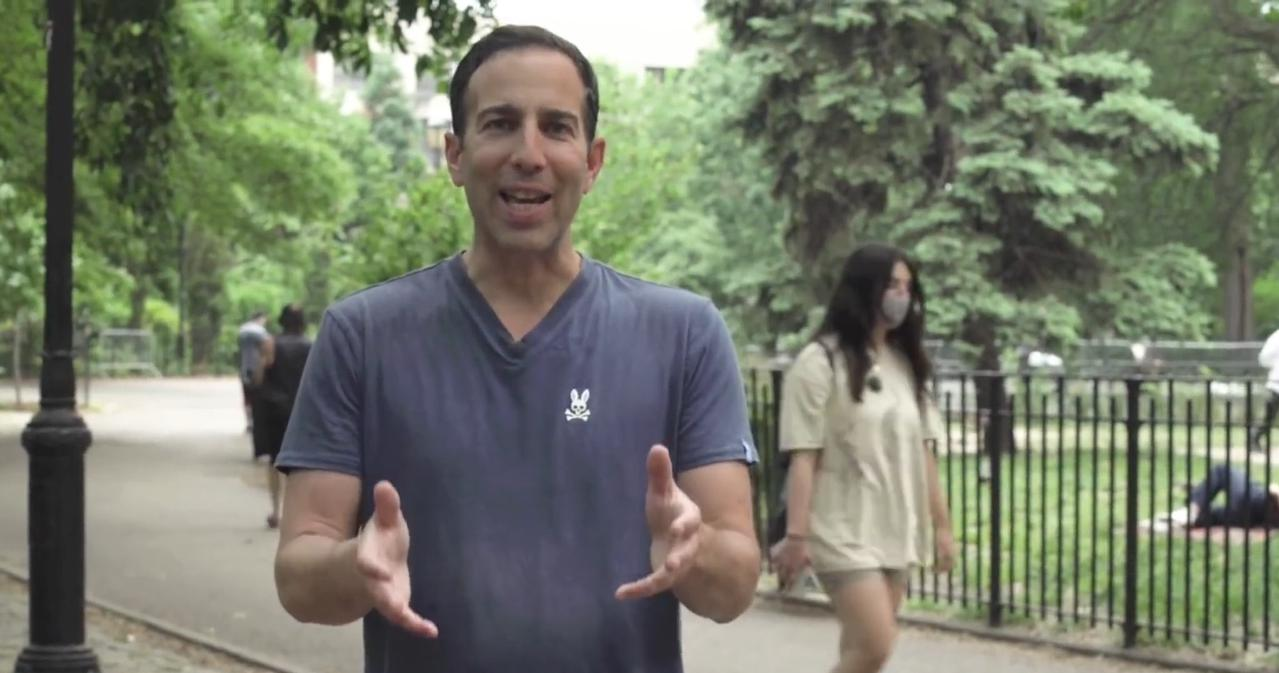with_mask: (875, 278, 909, 322)
without_mask: (472, 96, 578, 223)
